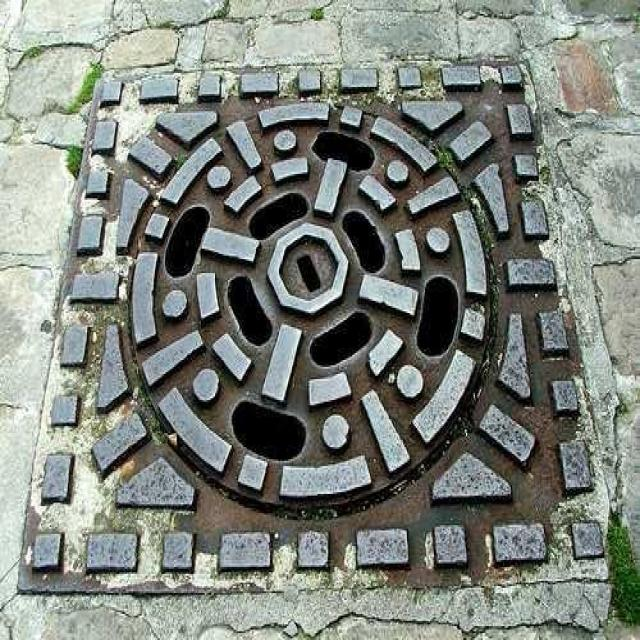manhole: (19, 54, 614, 640)
